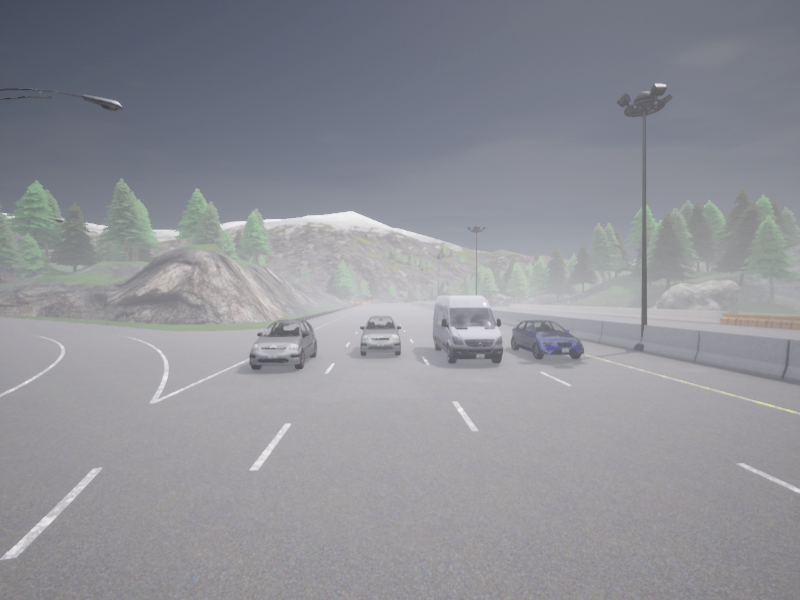vehicle: (432, 296, 502, 363), (249, 320, 316, 369), (511, 320, 583, 359), (360, 316, 401, 355)
